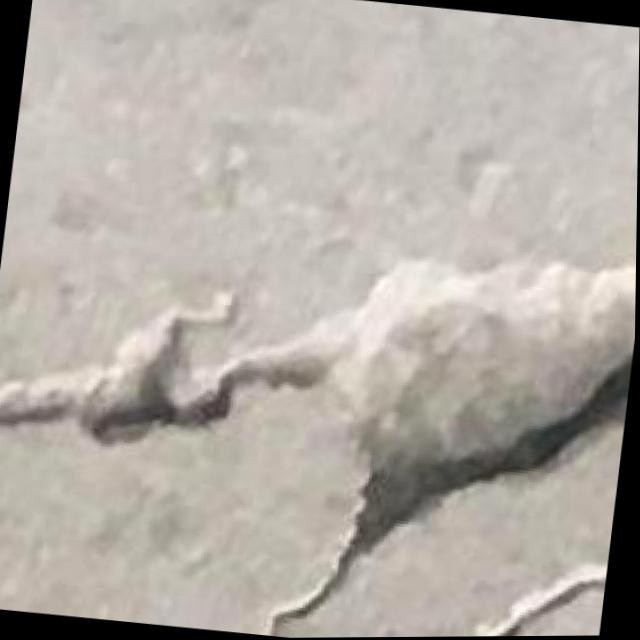Crack: (0, 180, 635, 640)
